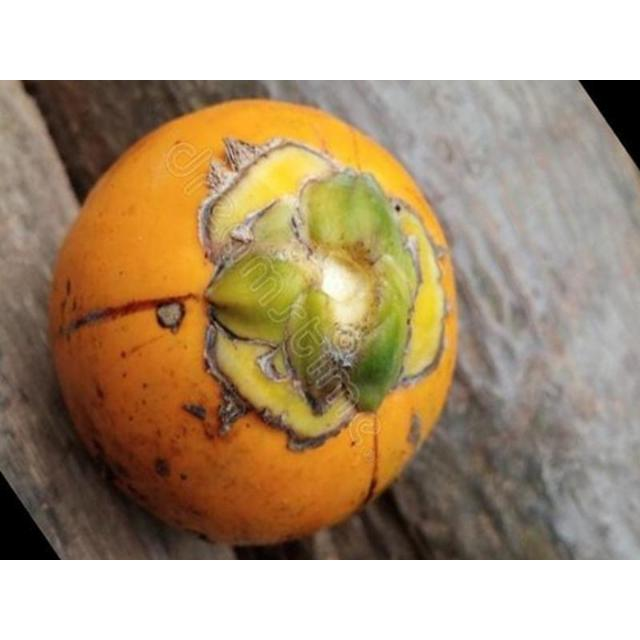good: (46, 97, 465, 551)
